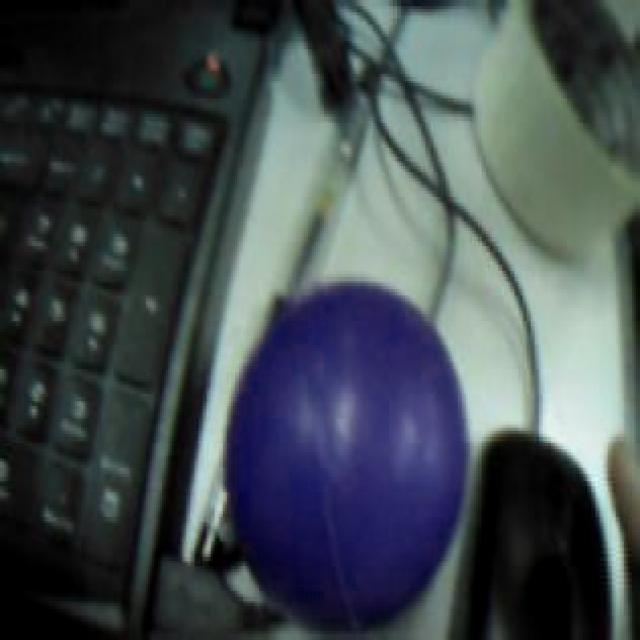BallPurple: (226, 281, 468, 629)
